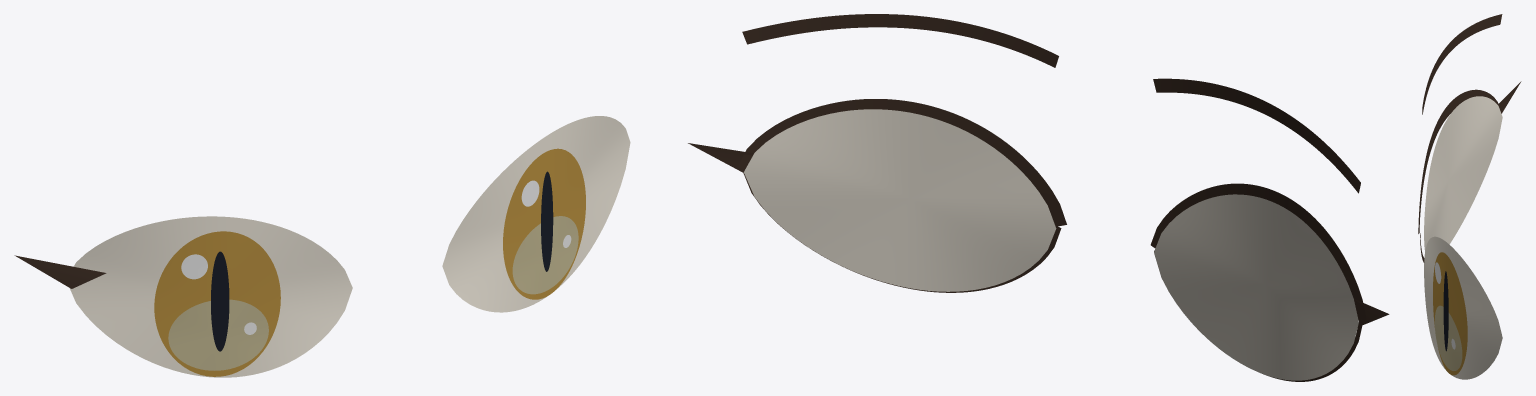
The picture shows the model from 3 angles, left to right: view 1: azimuth 30°, elevation 25°; view 2: azimuth 150°, elevation 25°; view 3: azimuth 270°, elevation 25°; orthographic projection. The views are drawn at different scales.
Parts seen in each view (by area): view 1: Eye_White_-1, Eye_White_1, Eye_Iris_-1, Eye_Iris_1, Eye_Iris_Light_-1, Eye_Iris_Light_1, Eye_Pupil_-1, Eye_LashWing_-1, Eye_Pupil_1, Eye_Glint_-1_0; view 2: Eye_White_1, Eye_White_-1, Eyebrow_1, Eye_UpperLid_1, Eye_UpperLid_-1, Eyebrow_-1, Eye_LowerLid_1, Eye_LashWing_1; view 3: Eye_White_-1, Eye_White_1, Eye_Iris_1, Eye_Iris_Light_1, Eye_UpperLid_-1, Eyebrow_-1, Eye_Pupil_1, Eye_LashWing_-1, Eye_Glint_1_0.
Boxes of the visible parts, left/top/right/bottom form: Eye_White_-1: left=69, top=216, right=352, bottom=377; Eye_White_1: left=442, top=116, right=630, bottom=312; Eye_Iris_-1: left=154, top=231, right=280, bottom=376; Eye_Iris_1: left=503, top=148, right=585, bottom=299; Eye_Iris_Light_-1: left=168, top=299, right=268, bottom=370; Eye_Iris_Light_1: left=512, top=216, right=578, bottom=294; Eye_Pupil_-1: left=211, top=251, right=229, bottom=351; Eye_LashWing_-1: left=14, top=255, right=106, bottom=288; Eye_Pupil_1: left=541, top=171, right=553, bottom=271; Eye_Glint_-1_0: left=181, top=254, right=207, bottom=279; Eye_White_1: left=744, top=109, right=1056, bottom=291; Eye_White_-1: left=1154, top=194, right=1358, bottom=380; Eyebrow_1: left=742, top=14, right=1058, bottom=67; Eye_UpperLid_1: left=737, top=99, right=1066, bottom=226; Eye_UpperLid_-1: left=1150, top=183, right=1366, bottom=320; Eyebrow_-1: left=1153, top=78, right=1360, bottom=193; Eye_LowerLid_1: left=743, top=171, right=1061, bottom=292; Eye_LashWing_1: left=688, top=143, right=753, bottom=172; Eye_White_-1: left=1424, top=96, right=1502, bottom=251; Eye_White_1: left=1424, top=236, right=1502, bottom=379; Eye_Iris_1: left=1433, top=252, right=1467, bottom=375; Eye_Iris_Light_1: left=1434, top=305, right=1462, bottom=370; Eye_UpperLid_-1: left=1418, top=89, right=1501, bottom=233; Eyebrow_-1: left=1422, top=14, right=1502, bottom=114; Eye_Pupil_1: left=1443, top=271, right=1448, bottom=351; Eye_LashWing_-1: left=1498, top=81, right=1521, bottom=113; Eye_Glint_1_0: left=1435, top=262, right=1441, bottom=283.
Size of the model in its own units: 0.418 by 0.157 by 0.0725.
